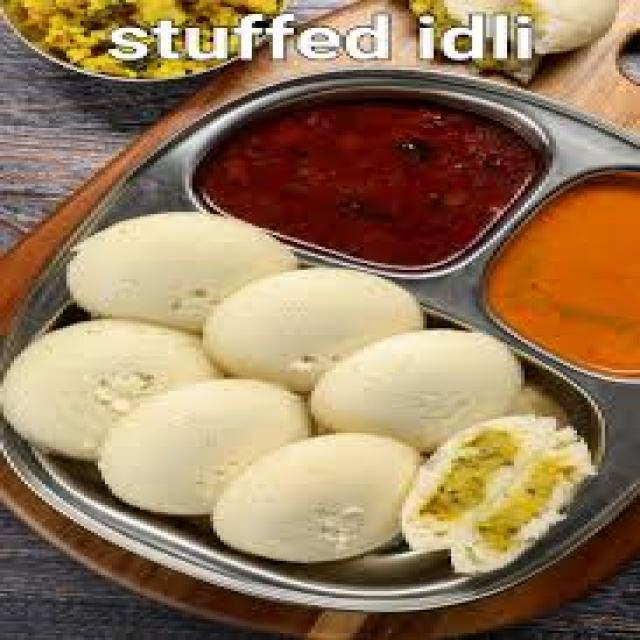IDLI: (0, 319, 217, 458), (98, 379, 308, 514), (203, 268, 423, 391), (66, 212, 294, 330), (213, 435, 416, 561), (318, 333, 518, 449)
